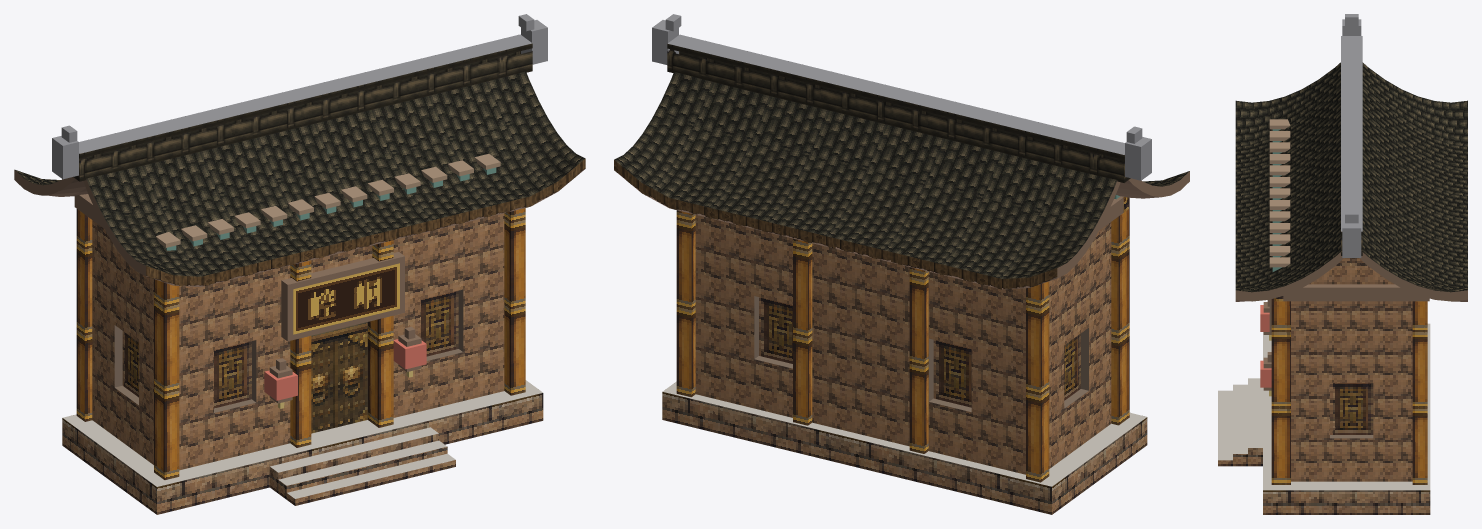
File: g_gongdong_clay.glb
3 views of the same model, side by side, from view 1: azimuth 30°, elevation 25°; view 2: azimuth 150°, elevation 25°; view 3: azimuth 270°, elevation 25° (orthographic). The views are drawn at different scales.
Visible parts, largest first — view 1: roof, plaster, post, stone, ridge, stonetop, ridgeend, door, wood, win, plaque, eave (+5 smaller); view 2: plaster, roof, post, stone, ridge, ridgeend, win, eave, stonetop, wood, reveal, under; view 3: roof, plaster, post, stonetop, ridgeend, stone, wood, woodl, win, lantern.
Part boxes in pixels (x1,y1,x2,y2): roof: (15,71,584,276); plaster: (92,213,504,470); post: (76,208,525,479); stone: (62,393,543,514); ridge: (73,43,532,181); stonetop: (62,380,542,498); ridgeend: (52,14,547,179); door: (311,322,367,433); wood: (14,168,585,403); win: (122,290,458,408); plaque: (293,263,399,334); eave: (146,158,585,286); plaster: (695,215,1111,474); roof: (614,72,1189,278); post: (676,197,1129,482); stone: (662,392,1147,514); ridge: (667,43,1130,182); ridgeend: (652,14,1151,180); win: (759,297,1080,407); eave: (614,160,1057,289); stonetop: (662,381,1146,486); wood: (1057,171,1189,278); reveal: (754,296,1088,412); under: (618,173,1159,289); roof: (1235,62,1467,292); plaster: (1291,258,1412,481); post: (1271,298,1427,484); stonetop: (1218,323,1430,490); ridgeend: (1341,14,1362,257); stone: (1218,448,1430,514); wood: (1235,252,1467,390); woodl: (1269,119,1290,267); win: (1330,383,1373,434); lantern: (1260,305,1271,387).
Bounding box in the file's own units: 72.72 × 51.3 × 36.7.
Materials: 19 (10 with a texture image).
